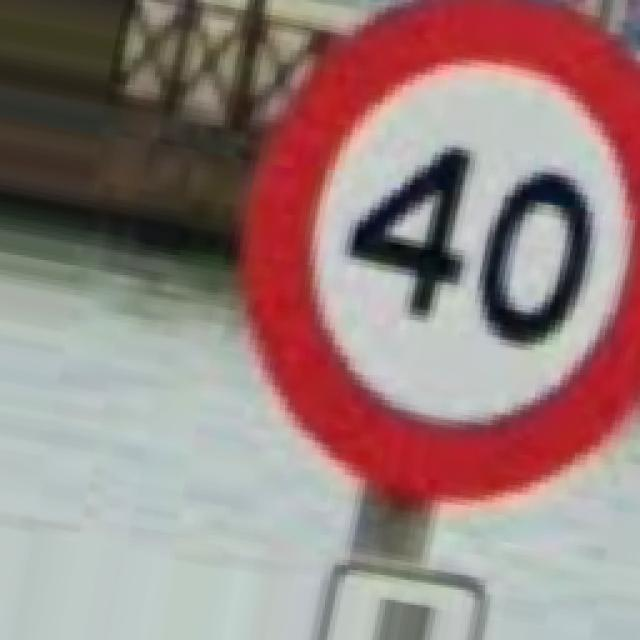Speed Limit -40-: (248, 0, 638, 500)
